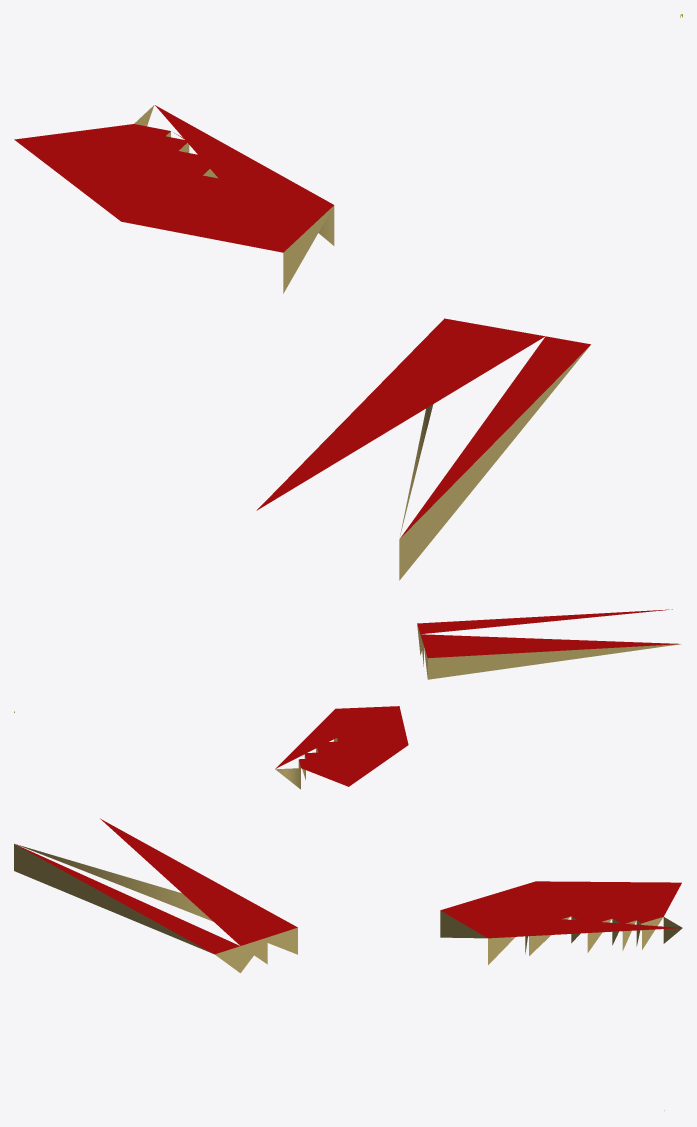
3 renders of one model, top to bottom at view 1: azimuth 30°, elevation 25°; view 2: azimuth 150°, elevation 25°; view 3: azimuth 270°, elevation 25°, orthographic. The views are drawn at different scales.
Size of the model in its own units: 162 by 7.5 by 166.
